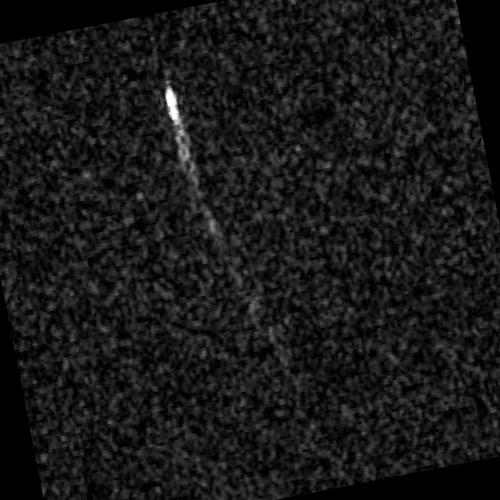ship: (165, 86, 181, 126)
